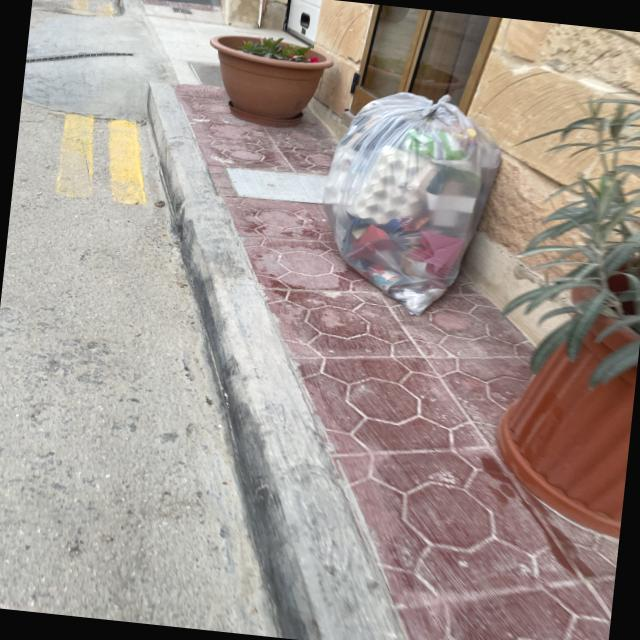grey_bag: (308, 81, 511, 324)
